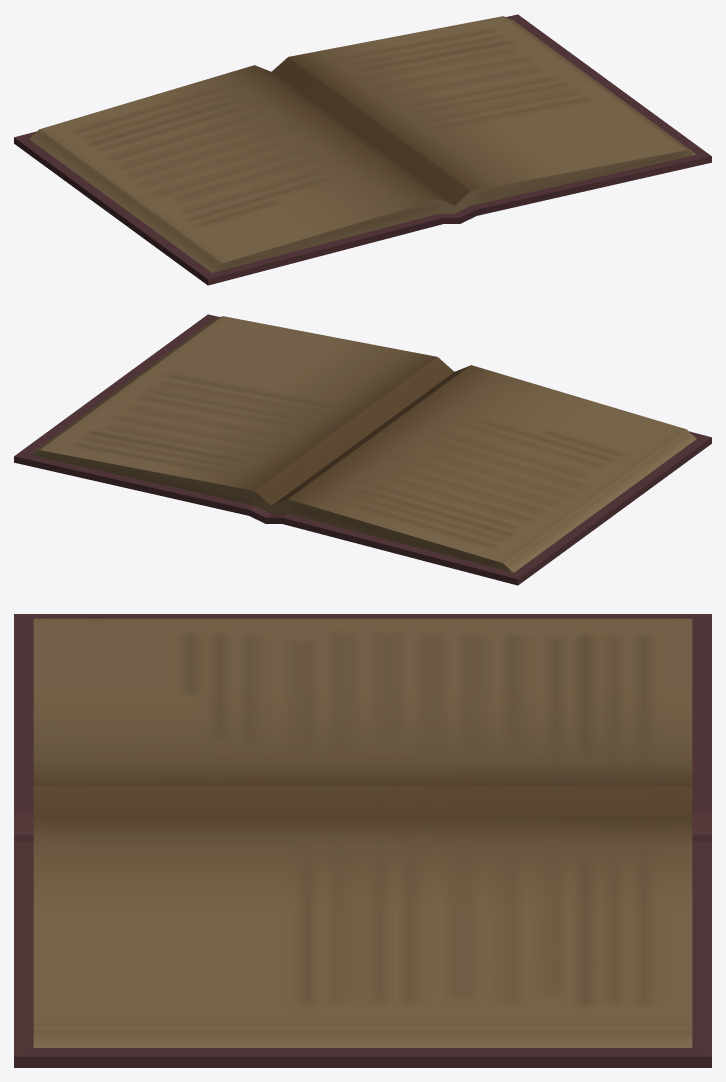
File: Libro_Prop.fbx
3 renders of one model, top to bottom at view 1: azimuth 30°, elevation 25°; view 2: azimuth 150°, elevation 25°; view 3: azimuth 270°, elevation 25°, orthographic. The views are drawn at different scales.
Parts seen in each view (by area): view 1: Libro_1; view 2: Libro_1; view 3: Libro_1.
Part boxes in pixels (x1,y1,x2,y2): Libro_1: (14, 14, 711, 285); Libro_1: (14, 314, 711, 585); Libro_1: (14, 614, 711, 1067).
Bounding box in the file's own units: 42 × 2 × 28.
Materials: 1 (1 with a texture image).
